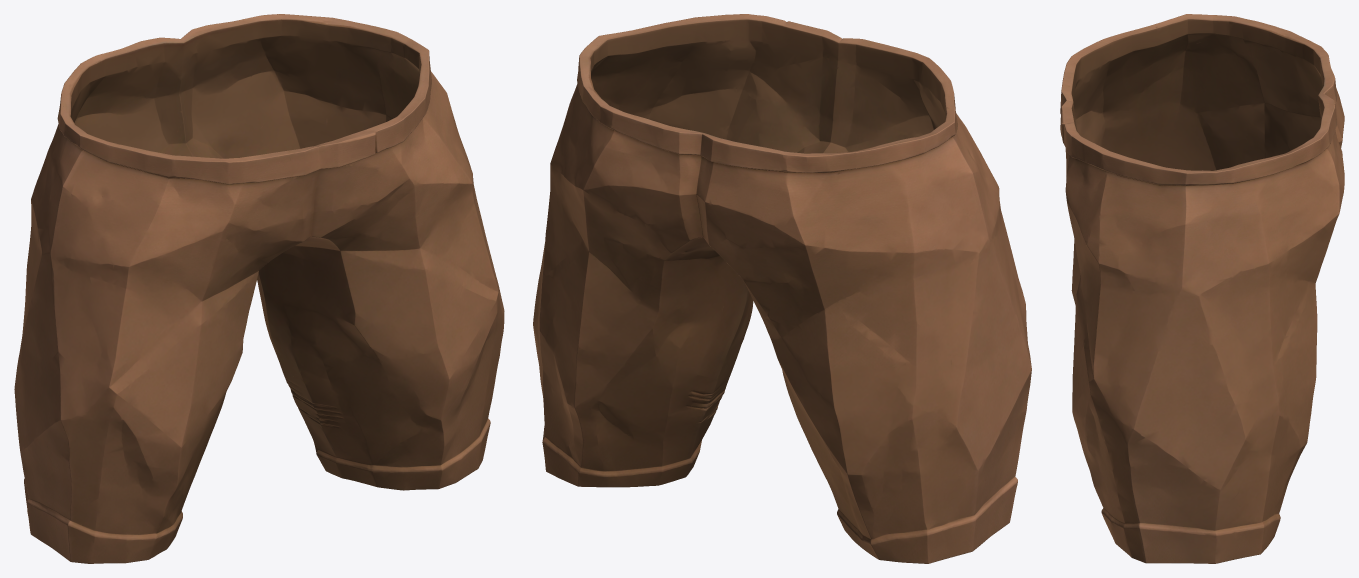
File: short-trousers-source.glb
3 views of the same model, side by side, from view 1: azimuth 30°, elevation 25°; view 2: azimuth 150°, elevation 25°; view 3: azimuth 270°, elevation 25° (orthographic). The views are drawn at different scales.
Bounding box in the file's own units: 1.9 × 1.67 × 1.13.
1 material, 1 textured.
